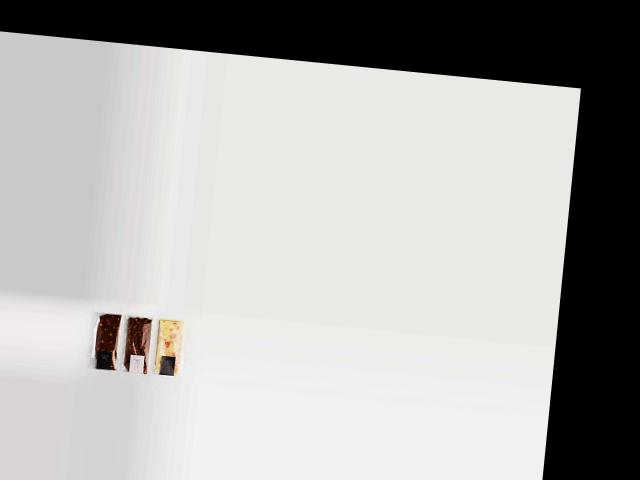chocolate: (84, 306, 124, 370)
